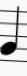G: (1, 2, 20, 64)
